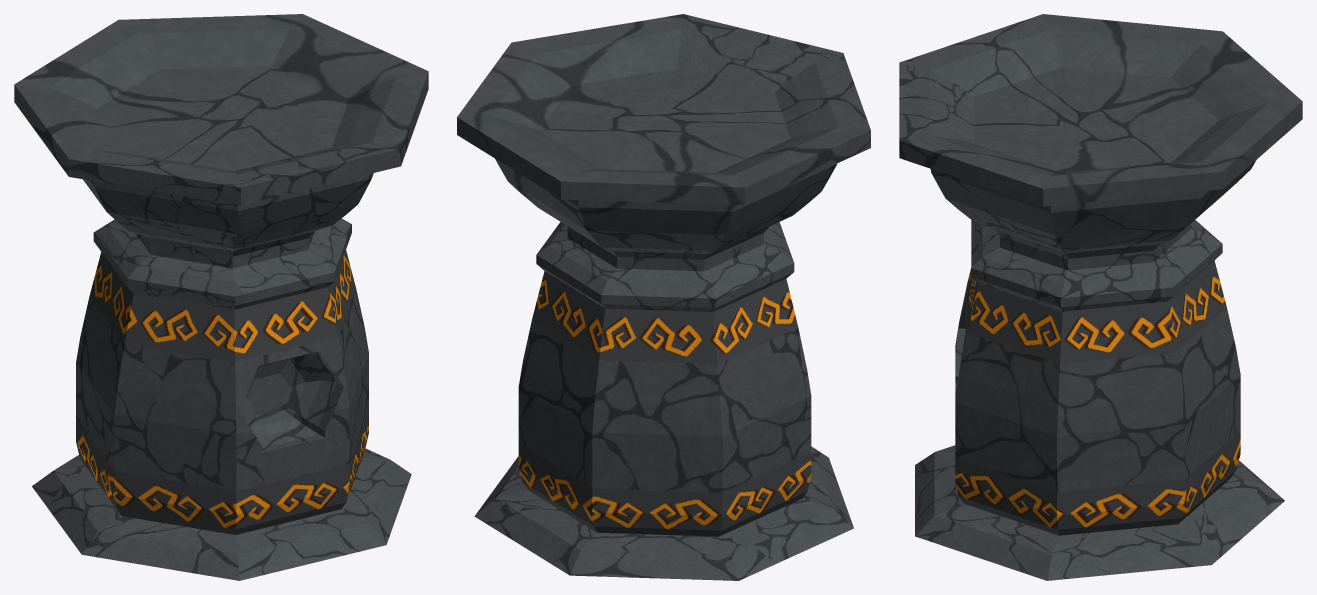
File: PedestalDeFogo (1).fbx
The picture shows the model from 3 angles, left to right: view 1: azimuth 30°, elevation 25°; view 2: azimuth 150°, elevation 25°; view 3: azimuth 270°, elevation 25°; orthographic projection.
Parts seen in each view (by area): view 1: Circle; view 2: Circle; view 3: Circle.
Boxes of the visible parts, x1,y1,x2,y2 form: Circle: (14,14,428,580); Circle: (457,14,870,580); Circle: (899,14,1302,580).
Size of the model in its own units: 2.87 by 3.05 by 2.8.
Materials: 1 (1 with a texture image).
